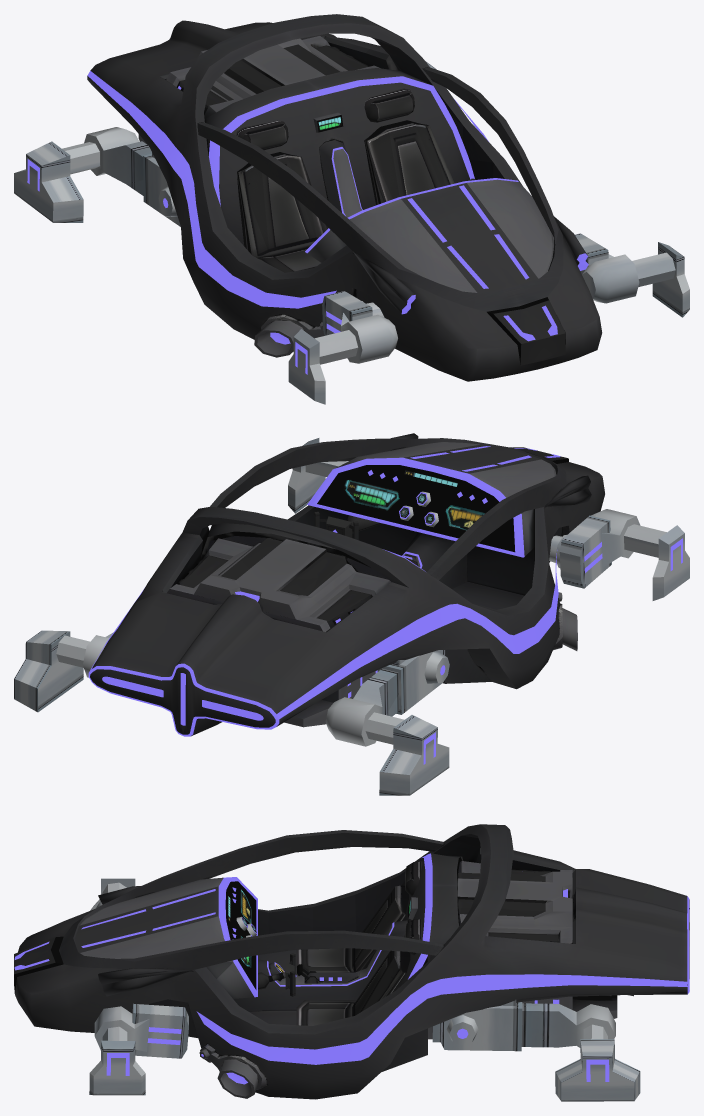
Rendered from runner02chassis.glb.
3 views of the same model, one above another, from view 1: azimuth 30°, elevation 25°; view 2: azimuth 150°, elevation 25°; view 3: azimuth 270°, elevation 25° (orthographic). The views are drawn at different scales.
Visible parts, largest first — view 1: 26, 28, 31, 29, 10, 4, 22, 27; view 2: 26, 28, 29, 10, 4, 27, 16, 30, 22, 25; view 3: 26, 28, 29, 16, 31, 22, 27, 30, 4.
Part boxes in pixels (<box>): 26: <box>87,14,602,381</box>; 28: <box>138,36,565,365</box>; 31: <box>236,88,454,272</box>; 29: <box>87,71,588,344</box>; 10: <box>14,127,180,226</box>; 4: <box>288,291,397,404</box>; 22: <box>575,233,689,317</box>; 27: <box>317,115,565,364</box>; 26: <box>90,433,604,736</box>; 28: <box>167,442,577,727</box>; 29: <box>88,446,560,736</box>; 10: <box>325,650,449,795</box>; 4: <box>549,509,689,600</box>; 27: <box>317,452,568,552</box>; 16: <box>14,630,113,712</box>; 30: <box>343,470,499,559</box>; 22: <box>288,438,348,513</box>; 25: <box>314,511,358,540</box>; 26: <box>15,824,689,1099</box>; 28: <box>14,861,633,1098</box>; 29: <box>14,853,689,1084</box>; 16: <box>432,999,640,1101</box>; 31: <box>258,861,422,1025</box>; 22: <box>89,1003,188,1095</box>; 27: <box>14,881,411,992</box>; 30: <box>228,888,410,972</box>; 4: <box>90,878,135,910</box>.
Size of the model in its own units: 3.18 by 1.5 by 5.05.
7 materials, 5 textured.
